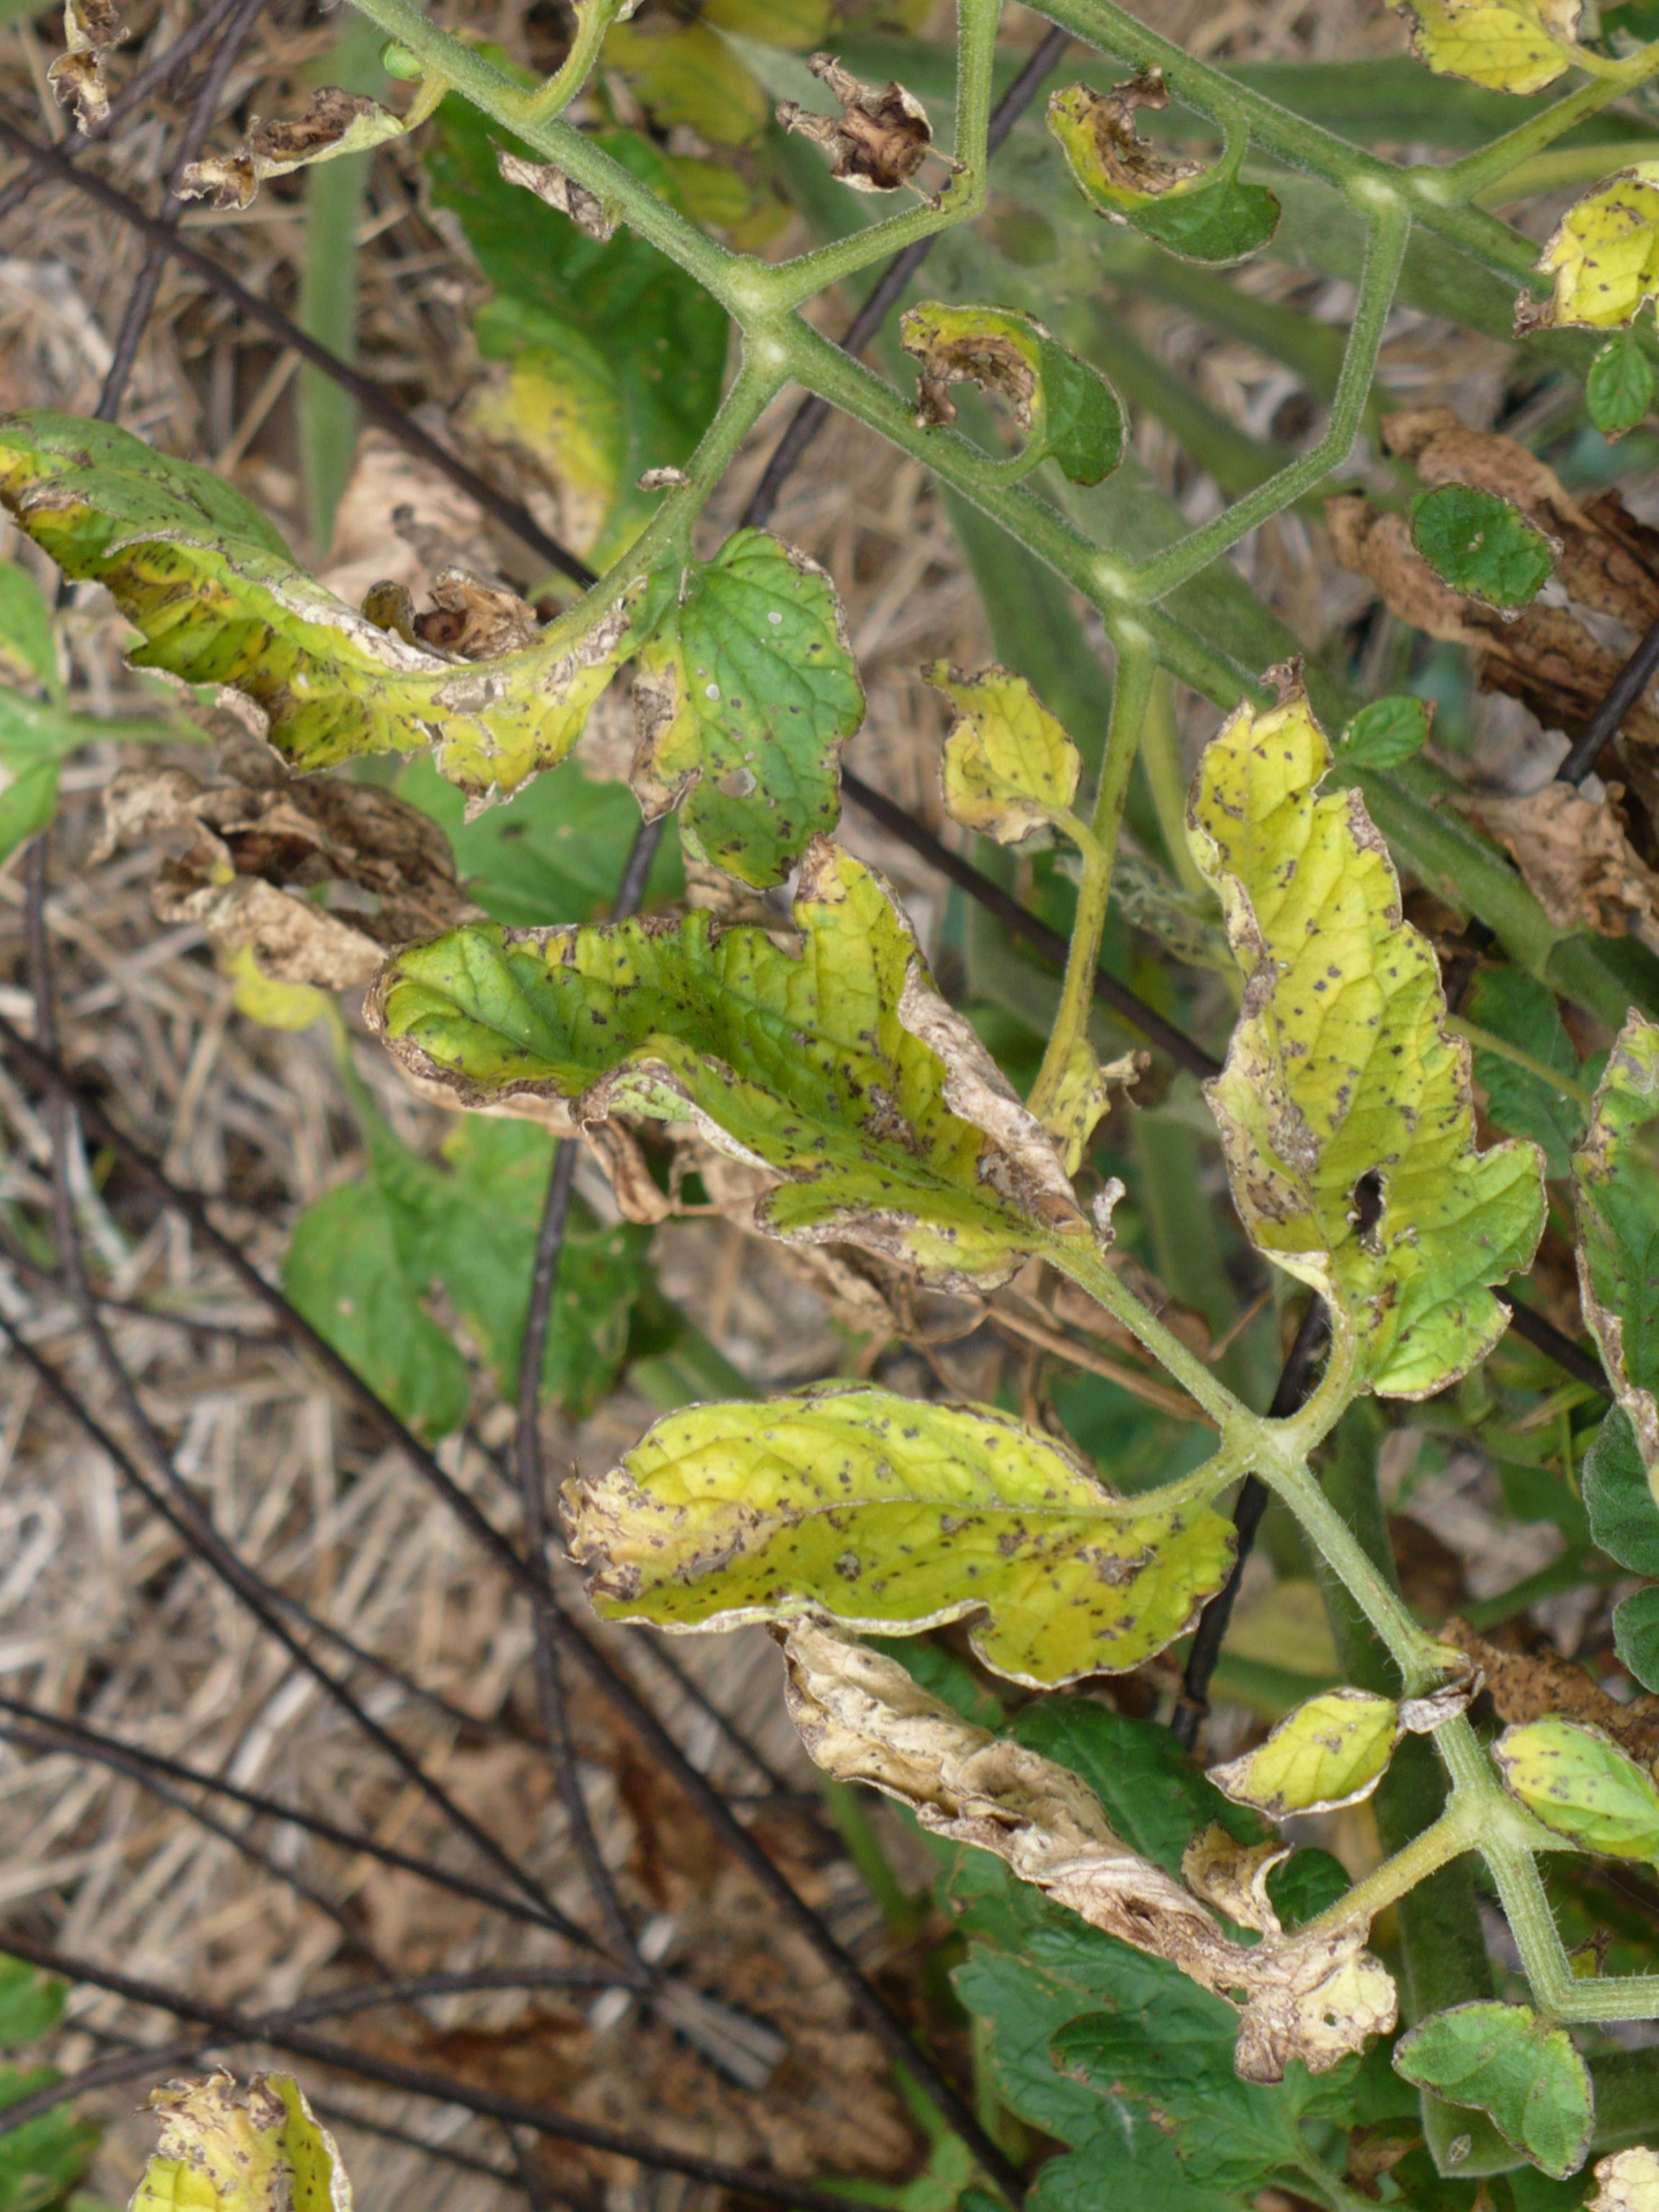Tomato Septoria leaf spot: (0, 61, 967, 1029), (901, 604, 1659, 1480), (343, 672, 1178, 1449), (551, 1172, 1290, 1864)
